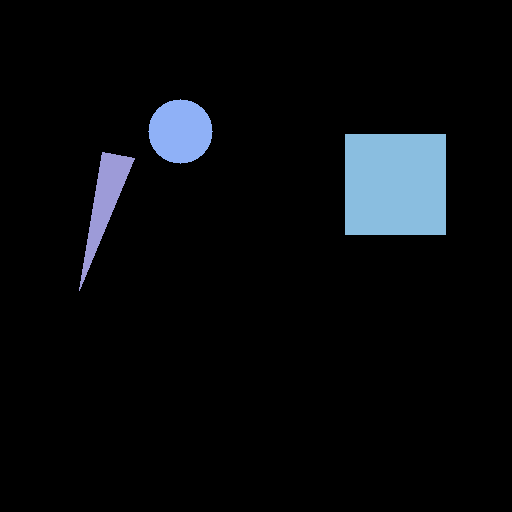circle: (148, 99, 212, 163)
square: (345, 134, 445, 234)
triangle: (79, 152, 134, 290)
